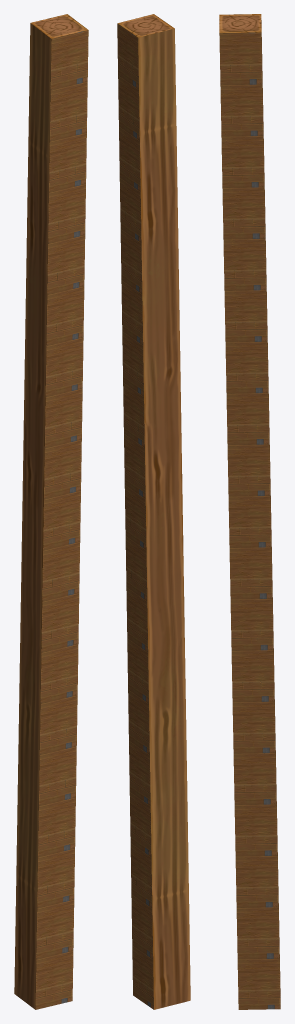
3 renders of one model, left to right at view 1: azimuth 30°, elevation 25°; view 2: azimuth 210°, elevation 25°; view 3: azimuth 270°, elevation 25°, orthographic.
Parts seen in each view (by area): view 1: Cube.771; view 2: Cube.771; view 3: Cube.771.
Part boxes in pixels (x1=…): Cube.771: x1=14, y1=14, x2=88, y2=1009; Cube.771: x1=117, y1=14, x2=190, y2=1009; Cube.771: x1=219, y1=14, x2=280, y2=1009.
Size of the model in its own units: 63.54 by 1356 by 77.08.
Materials: 1 (1 with a texture image).
